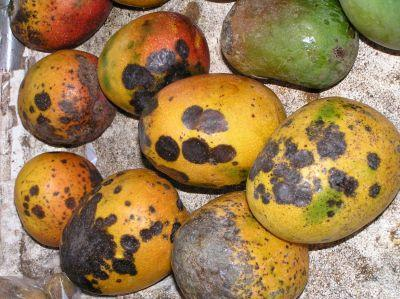mango: (245, 95, 399, 246)
